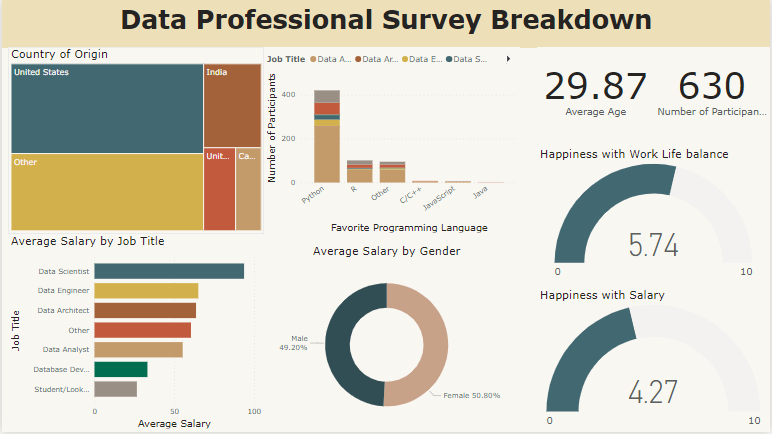

Layout of this report page (visuals, bound fields, positions):
{"tool":"powerbi","page":{"name":"Page 1","canvas":[1280,720],"ordinal":0},"visuals":[{"type":"textbox","box":[10.4,0,1269.6,79.4],"z":0},{"type":"card","fields":{"Values":["CountNonNull(Data Professional Survey.Unique ID)"]},"box":[1086.8,79,193.2,141.1],"z":1000},{"type":"card","fields":{"Values":["Avg(Data Professional Survey.Q10 - Current Age)"]},"box":[892,79,194.9,141.1],"z":2000},{"type":"barChart","title":"Average Salary by Job Title","fields":{"Category":["Data Professional Survey.Q1 - Which Title Best Fits your Current Role?.1"],"Y":["Avg(Data Professional Survey.Avg. Salary)"],"Series":["Data Professional Survey.Q1 - Which Title Best Fits your Current Role?.1"]},"box":[10.1,389.7,426.7,329.2],"z":3000},{"type":"columnChart","fields":{"Category":["Data Professional Survey.Q5 - Favorite Programming Language.1"],"Y":["CountNonNull(Data Professional Survey.Unique ID)"],"Series":["Data Professional Survey.Q1 - Which Title Best Fits your Current Role?.1"]},"box":[436.7,79,426.7,314.1],"z":4000},{"type":"treemap","title":"Country of Origin","fields":{"Group":["Data Professional Survey.Q11 - Which Country do you live in?.1"],"Values":["CountNonNull(Data Professional Survey.Q11 - Which Country do you live in?.1)"]},"box":[10.1,79,426.7,310.8],"z":5000},{"type":"gauge","title":"Happiness with Work Life balance","fields":{"Y":["Avg(Data Professional Survey.Q6 - How Happy are you in your Current Position with the following? (Work/Life Balance))"],"MinValue":["Min(Data Professional Survey.Q6 - How Happy are you in your Current Position with the following? (Work/Life Balance))"],"MaxValue":["Max(Data Professional Survey.Q6 - How Happy are you in your Current Position with the following? (Work/Life Balance))1"]},"box":[892,245.2,388,226.8],"z":6000},{"type":"gauge","title":"Happiness with Salary","fields":{"Y":["Avg(Data Professional Survey.Q6 - How Happy are you in your Current Position with the following? (Salary))"],"MinValue":["Min(Data Professional Survey.Q6 - How Happy are you in your Current Position with the following? (Salary))"],"MaxValue":["Max(Data Professional Survey.Q6 - How Happy are you in your Current Position with the following? (Salary))"]},"box":[892,480.4,388,240.2],"z":7000},{"type":"donutChart","title":"Average Salary by Gender","fields":{"Category":["Data Professional Survey.Q9 - Male/Female?"],"Y":["Avg(Data Professional Survey.Avg. Salary)"]},"box":[437,407,409,313],"z":8000}]}

Visuals, with their boxes in screenshot pixels (x1, y1, x2, y2), scaled from the page's 1280x720 canvas onto the 772x434 screenshot:
textbox: (6,0,771,48)
card - CountNonNull(Data Professional Survey.Unique ID): (655,48,771,133)
card - Avg(Data Professional Survey.Q10 - Current Age): (538,48,656,133)
"Average Salary by Job Title" barChart: (6,235,263,433)
columnChart - Data Professional Survey.Q5 - Favorite Programming Language.1 x CountNonNull(Data Professional Survey.Unique ID): (263,48,521,237)
"Country of Origin" treemap: (6,48,263,235)
"Happiness with Work Life balance" gauge: (538,148,771,285)
"Happiness with Salary" gauge: (538,290,771,433)
"Average Salary by Gender" donutChart: (264,245,510,433)
